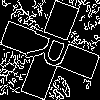R: (25, 25, 81, 75)
